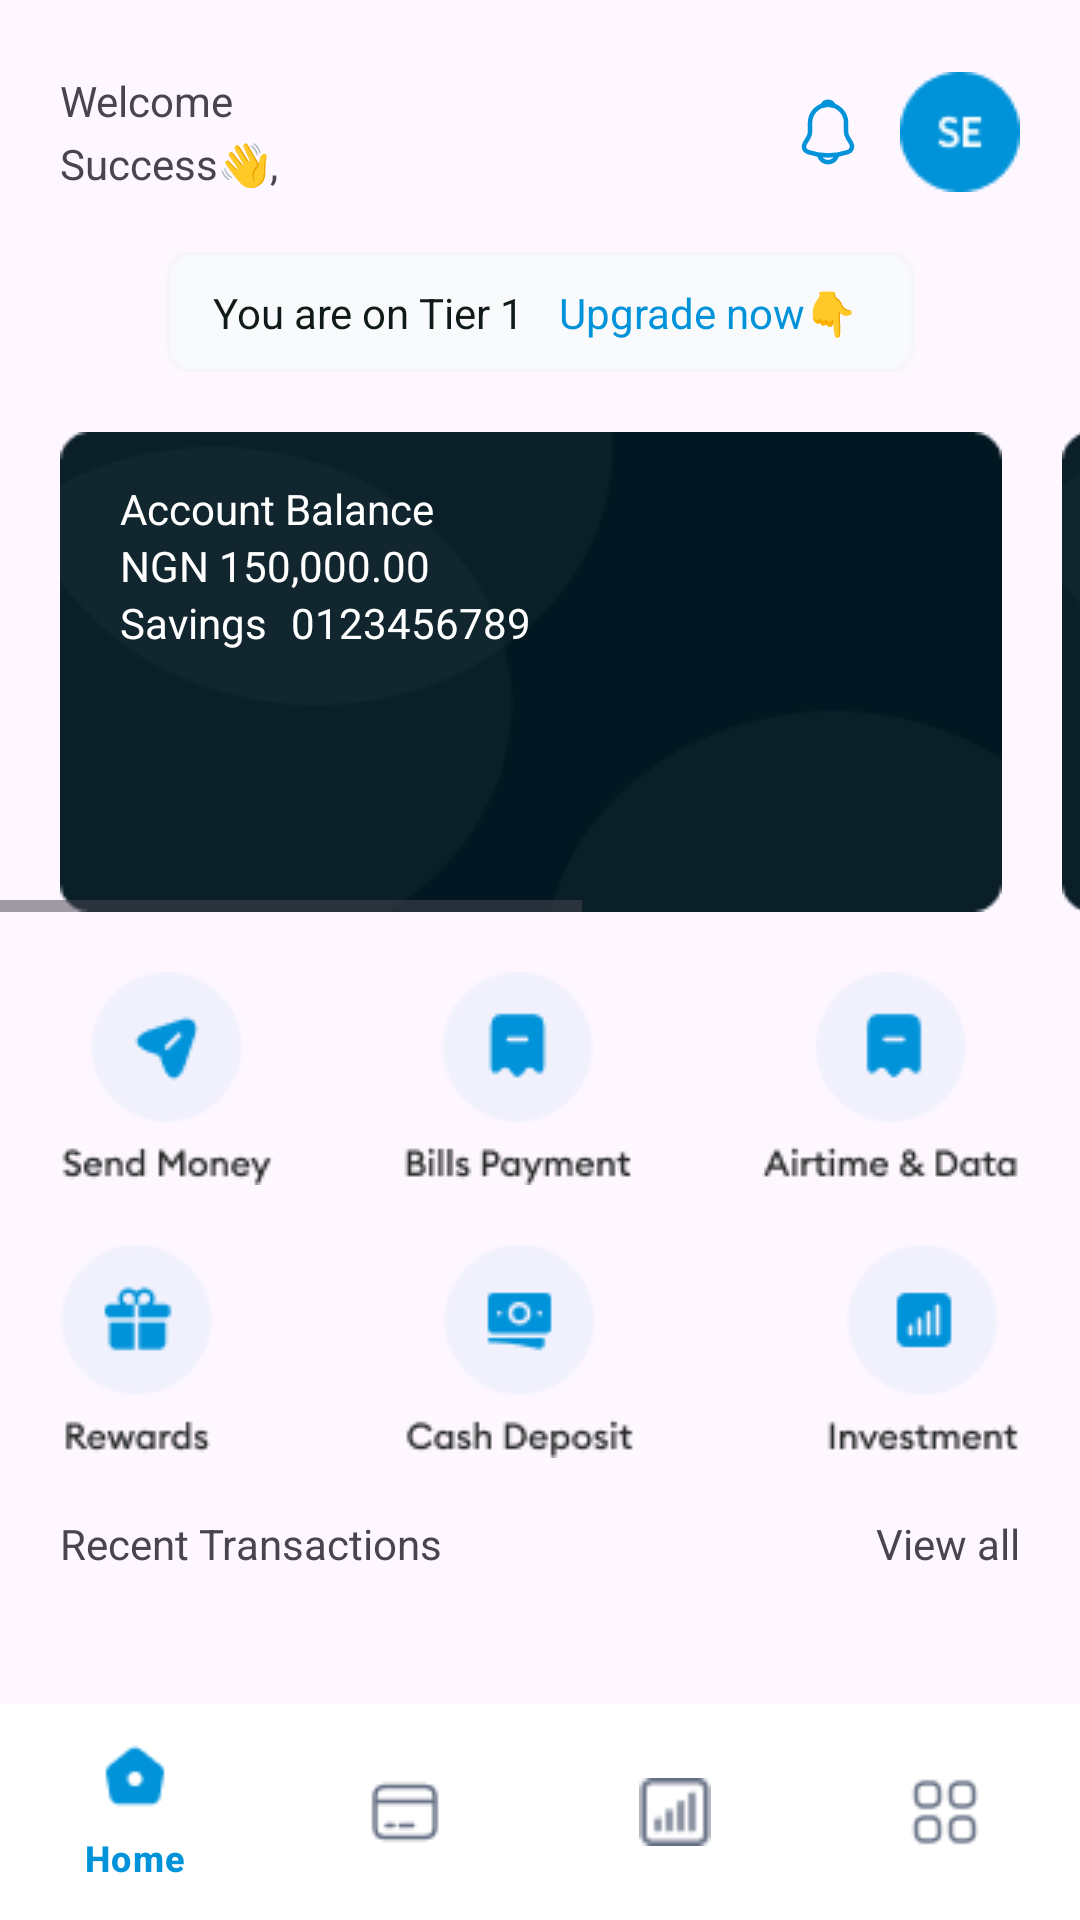

Named icons in this screenshot (1080 × 1920) and their bounding boxes, BBox(x1, y1, x2, y2):
bell: BBox(801, 99, 855, 165)
